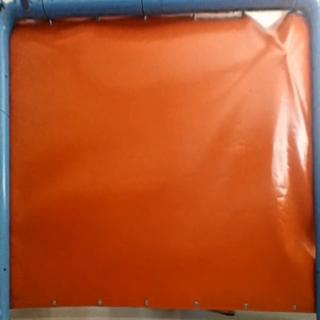Hit-hRxx: (279, 41, 293, 57)
